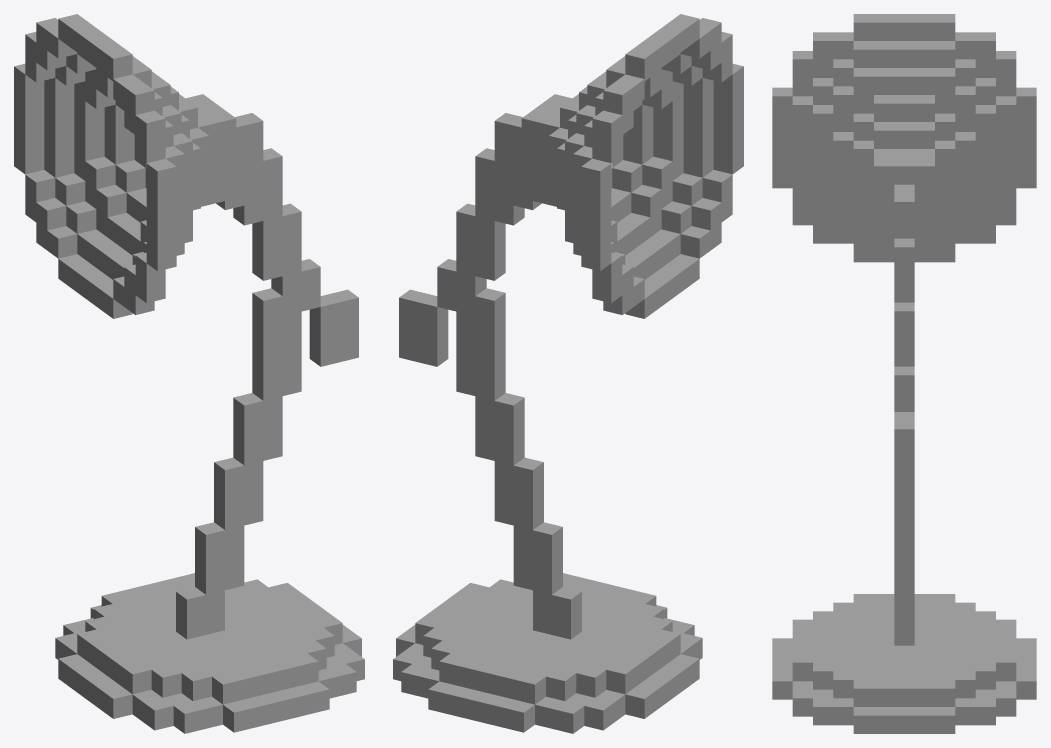
File: Tablelamp_2.obj
The picture shows the model from 3 angles, left to right: view 1: azimuth 30°, elevation 25°; view 2: azimuth 150°, elevation 25°; view 3: azimuth 270°, elevation 25°; orthographic projection. The views are drawn at different scales.
Visible parts, largest first — view 1: Tablelamp_2; view 2: Tablelamp_2; view 3: Tablelamp_2.
Boxes of the visible parts, x1,y1,x2,y2 form: Tablelamp_2: [14, 14, 364, 733]; Tablelamp_2: [393, 14, 743, 733]; Tablelamp_2: [772, 14, 1036, 733].
Size of the model in its own units: 14 by 33 by 13.
1 material, 1 textured.
